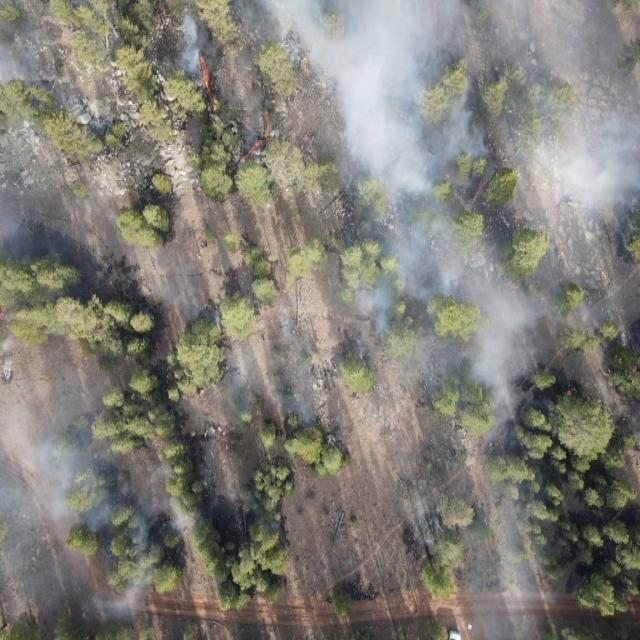fire: (225, 129, 273, 173), (198, 54, 222, 117), (369, 61, 384, 88), (472, 177, 487, 201), (440, 170, 453, 182), (0, 309, 8, 325), (563, 387, 572, 398)
smoke: (246, 0, 640, 216), (329, 216, 613, 432), (0, 412, 188, 640), (401, 432, 554, 640), (225, 315, 324, 433), (0, 0, 68, 122), (139, 260, 227, 340), (170, 10, 220, 81), (0, 207, 42, 264)
